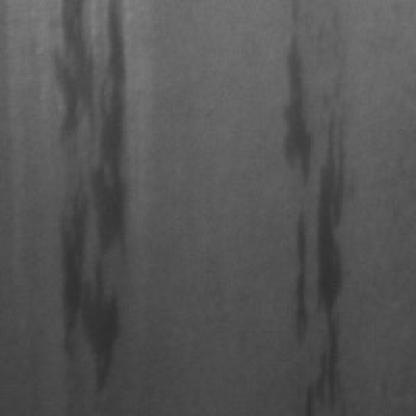inclusion: (51, 0, 140, 406), (285, 0, 364, 393), (276, 25, 320, 189), (302, 308, 352, 412)
